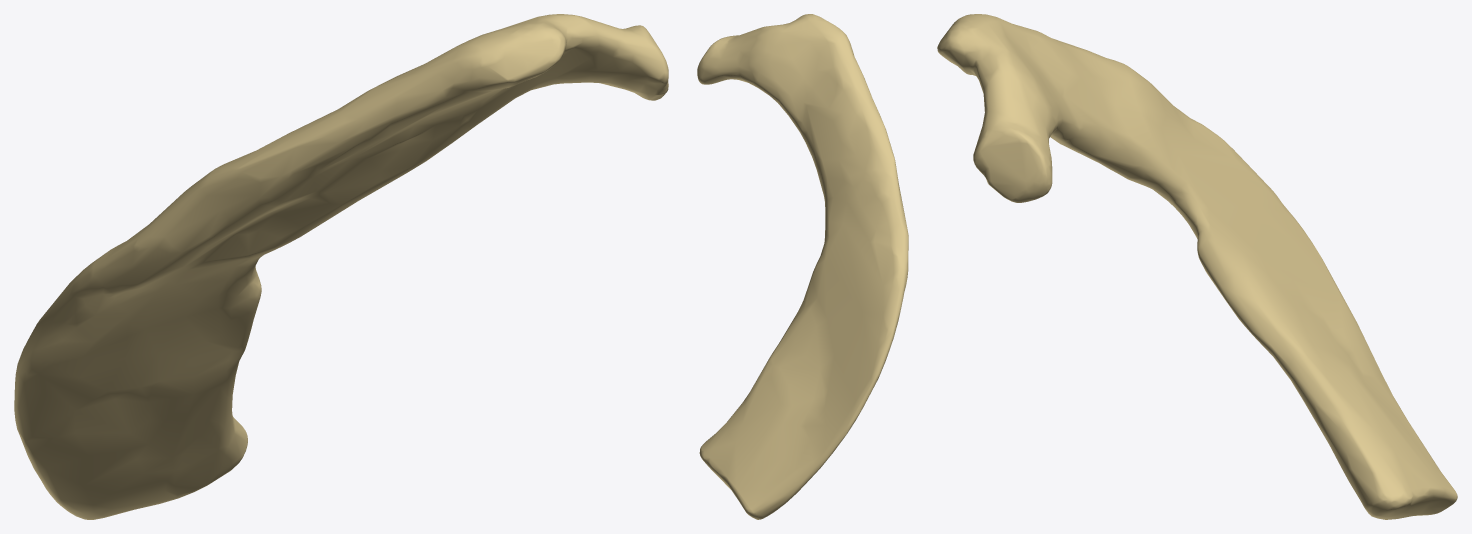
The picture shows the model from 3 angles, left to right: view 1: azimuth 30°, elevation 25°; view 2: azimuth 150°, elevation 25°; view 3: azimuth 270°, elevation 25°; orthographic projection. The views are drawn at different scales.
Parts seen in each view (by area): view 1: 右侧第一肋; view 2: 右侧第一肋; view 3: 右侧第一肋.
Boxes of the visible parts, bbox=[...] form: 右侧第一肋: bbox=[14, 14, 668, 519]; 右侧第一肋: bbox=[697, 14, 908, 519]; 右侧第一肋: bbox=[937, 14, 1457, 519].
Size of the model in its own units: 0.0809 by 0.1041 by 0.0875.
